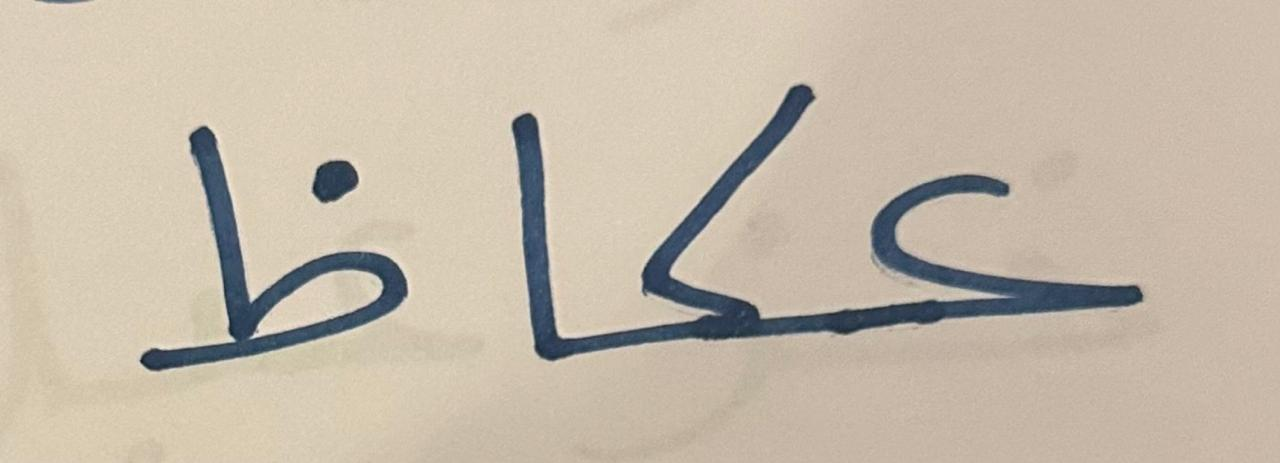ain: (859, 72, 1178, 388)
alef: (431, 38, 587, 426)
khah: (593, 25, 853, 416)
zain: (76, 29, 427, 429)
